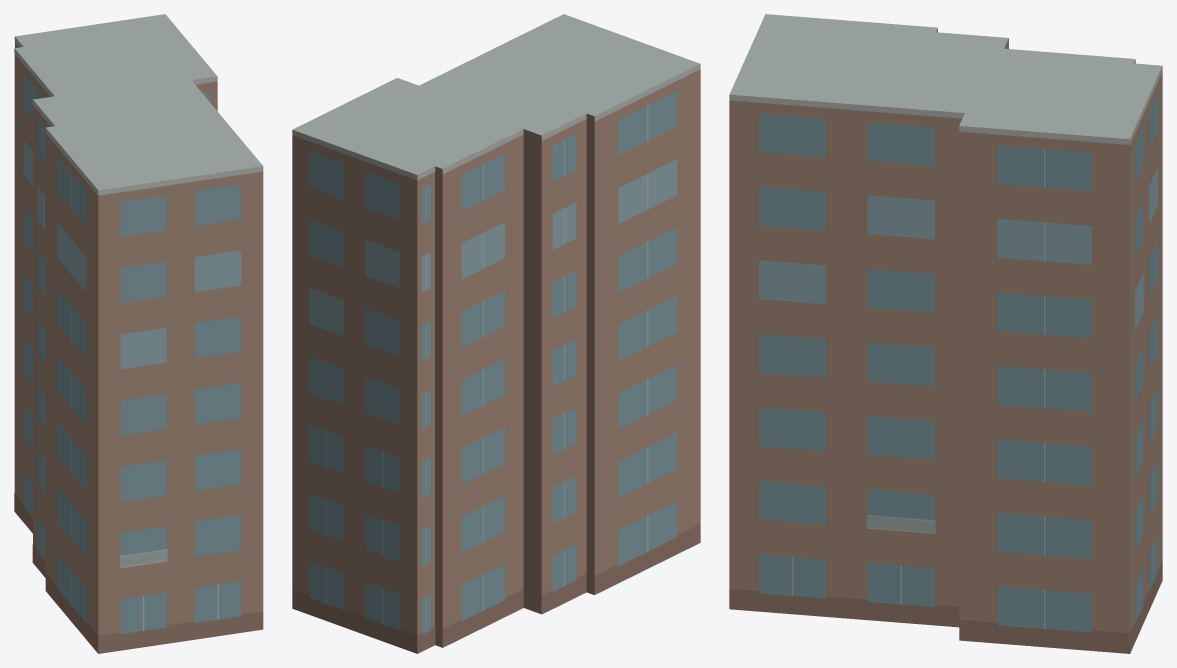
File: survey-upis-32785274.glb
3 views of the same model, side by side, from view 1: azimuth 30°, elevation 25°; view 2: azimuth 150°, elevation 25°; view 3: azimuth 270°, elevation 25° (orthographic). The views are drawn at different scales.
Parts seen in each view (by area): view 1: survey-upis-32785274.tmp; view 2: survey-upis-32785274.tmp; view 3: survey-upis-32785274.tmp.
Boxes of the visible parts, x1=… form: survey-upis-32785274.tmp: x1=14, y1=14, x2=263, y2=653; survey-upis-32785274.tmp: x1=292, y1=14, x2=700, y2=653; survey-upis-32785274.tmp: x1=729, y1=14, x2=1162, y2=653.
Bounding box in the file's own units: 11.29 × 21.6 × 16.49.
